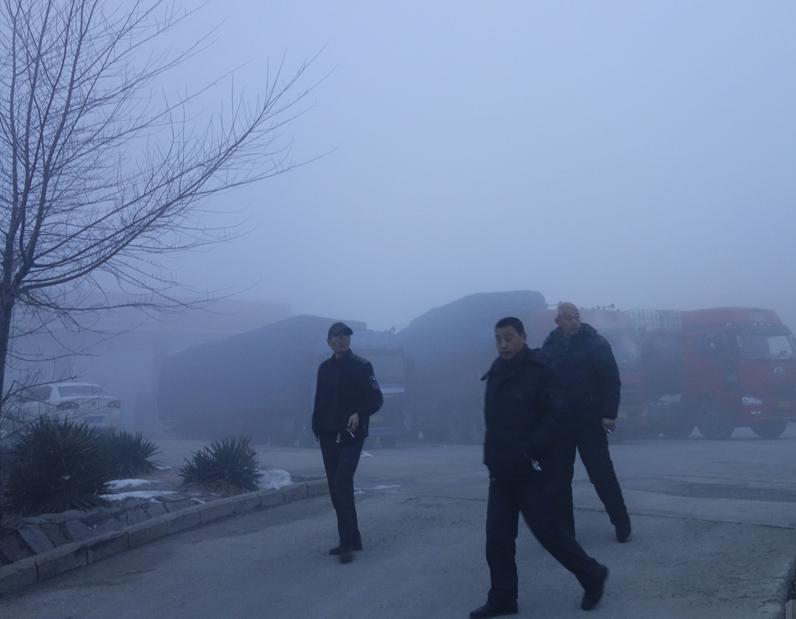bus: (383, 288, 645, 447), (154, 311, 413, 452), (579, 305, 795, 441)
car: (10, 381, 121, 438)
person: (466, 315, 610, 619), (525, 301, 631, 544), (309, 319, 384, 563)
